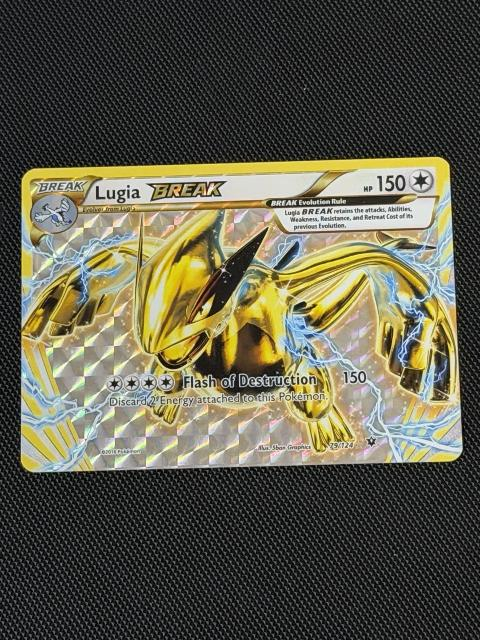Card: (16, 151, 468, 479)
Name: (92, 175, 232, 205)
